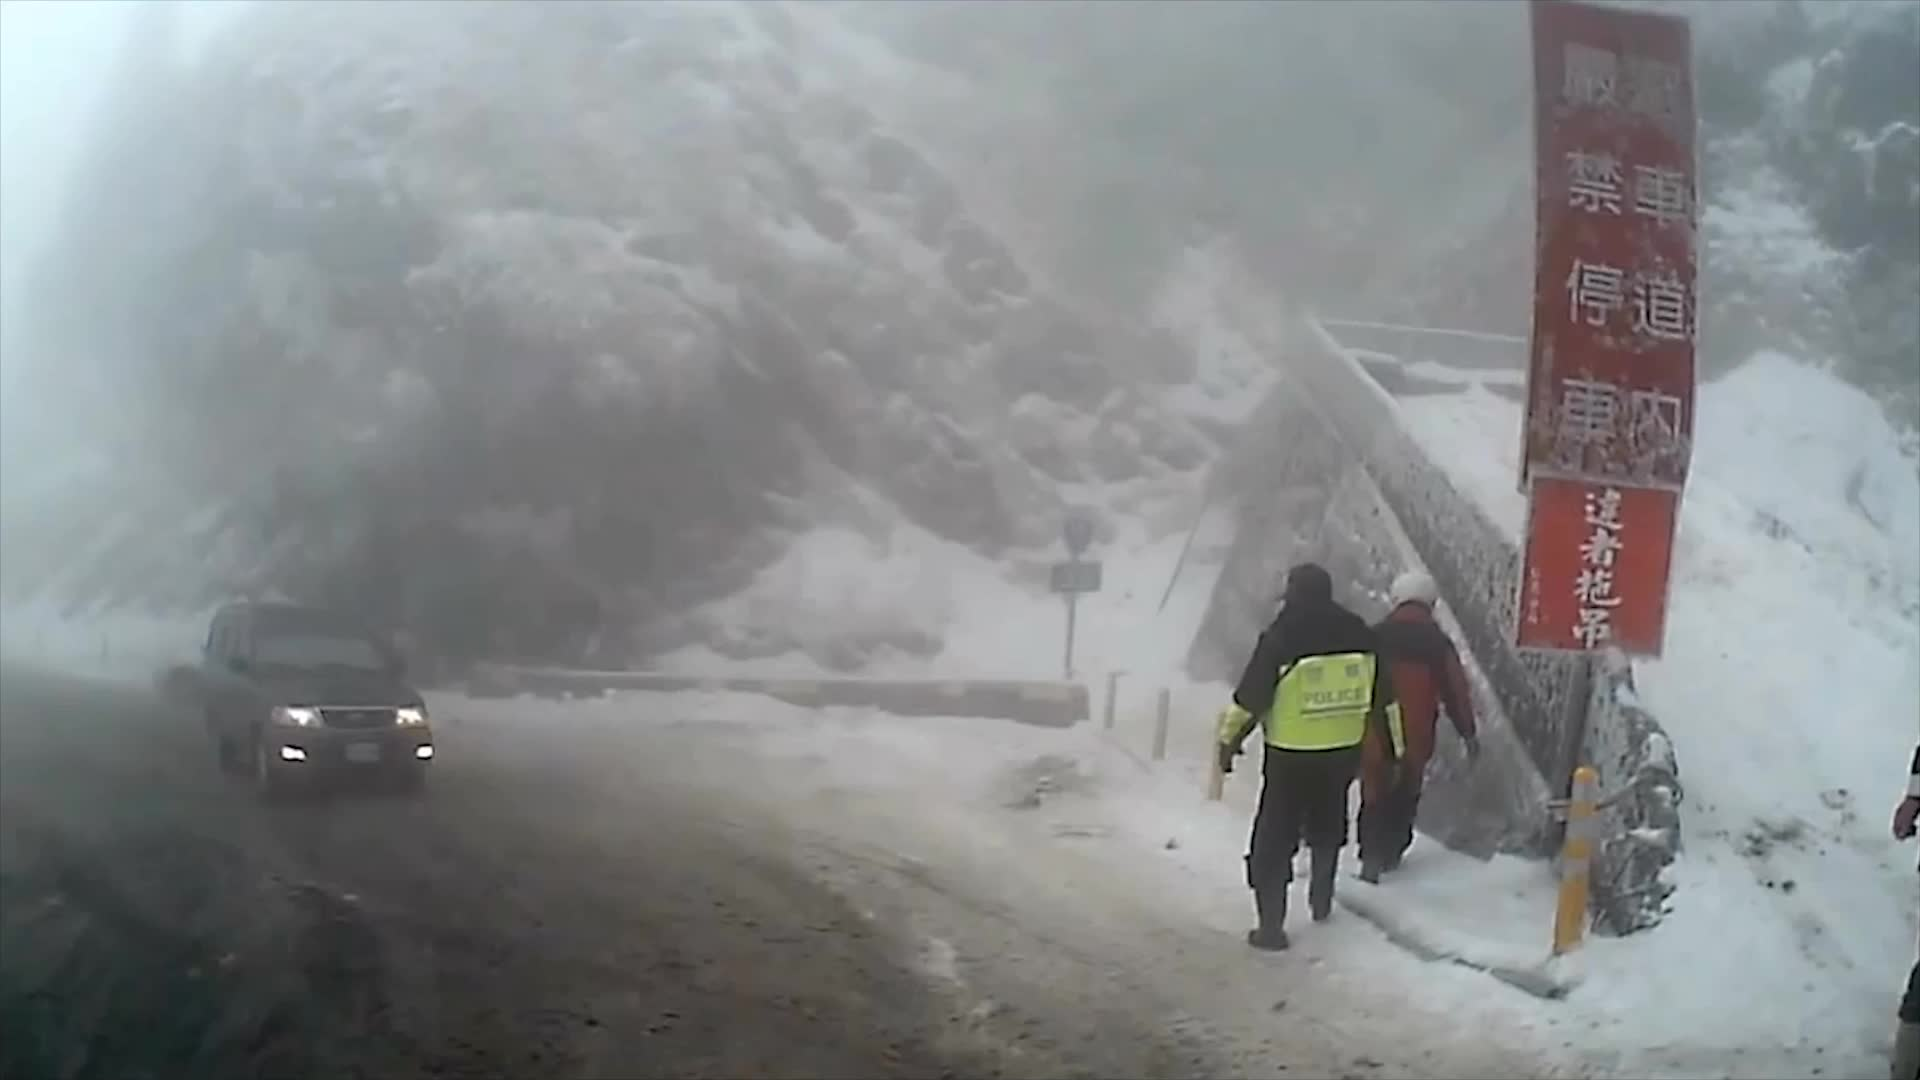pedestrian: (1210, 566, 1399, 956), (1344, 568, 1480, 884)
vehicle: (196, 597, 432, 799)
